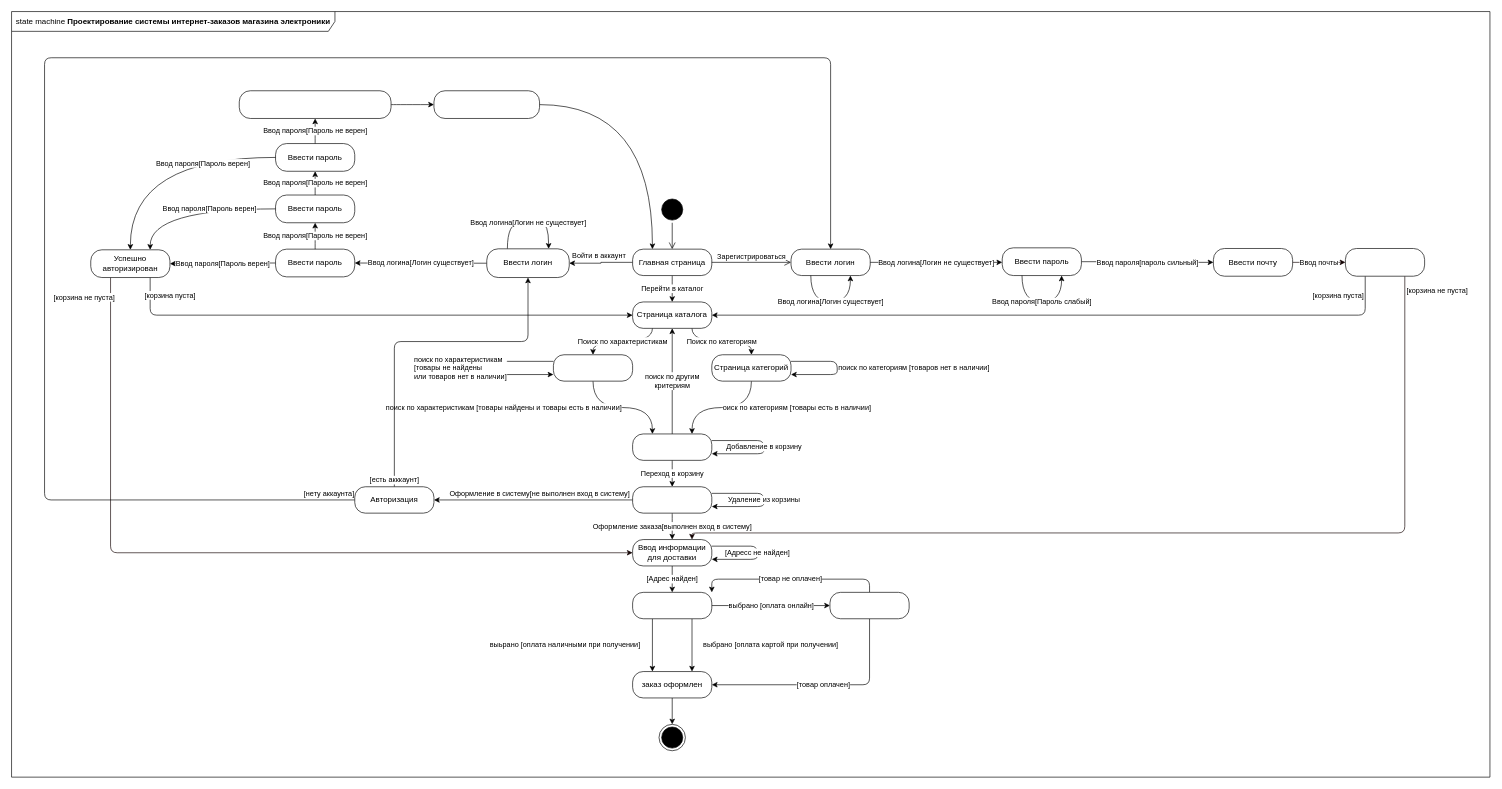
Some shapes in this 1502 by 789 pixel diagram are drawn without their labels. The centre of each missing label's shape, as x and y in pixels:
"Ввод информации на сайте банка" goes at point (869, 605).
"Выбор способа оплаты" goes at point (672, 605).
"Ограничить возможность входа на 15 мин" goes at point (486, 104).
"Отправить сообщение о возможном взломе на почту и ссылку с востановлением пароля" goes at point (315, 104).
"Просмотр выбраных товаров" goes at point (672, 499).
"Просмотр товаров" goes at point (672, 446).
"Страница поиска" goes at point (593, 367).
"Успешно зарегистрирован" goes at point (1385, 262).
